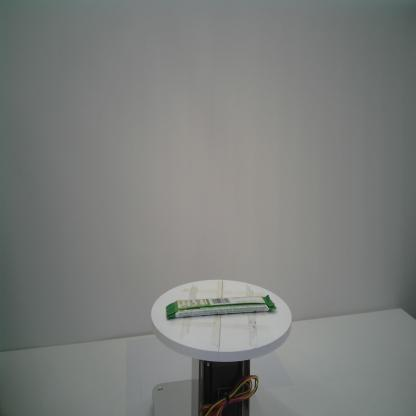Chocolate: (166, 294, 278, 319)
